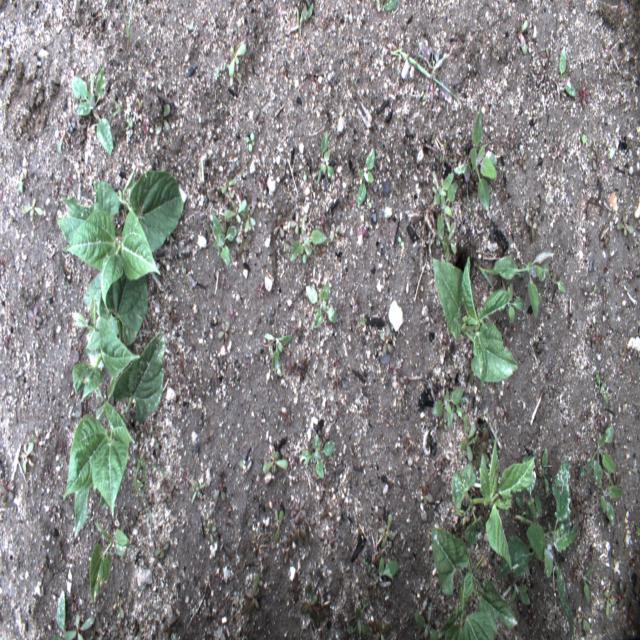crop: (61, 329, 166, 533), (55, 169, 184, 312), (431, 255, 518, 392), (450, 436, 535, 568), (72, 271, 150, 404), (428, 524, 518, 638), (90, 524, 130, 602)
weed: (498, 462, 576, 637), (454, 106, 498, 213), (388, 46, 462, 103), (71, 71, 115, 155), (132, 452, 177, 534), (494, 256, 544, 316), (578, 422, 616, 484), (512, 495, 544, 557), (432, 174, 460, 240), (305, 282, 339, 331), (299, 434, 335, 479), (289, 224, 328, 263), (222, 38, 253, 82), (210, 216, 235, 267), (263, 331, 293, 373), (357, 144, 375, 210), (316, 130, 336, 188), (430, 384, 466, 416), (556, 46, 578, 98), (172, 238, 191, 295), (373, 555, 401, 591), (117, 0, 136, 52), (346, 599, 371, 637), (599, 477, 619, 524), (293, 4, 315, 44), (414, 604, 439, 639), (460, 414, 478, 462), (244, 569, 260, 619), (301, 579, 319, 623), (262, 446, 289, 475), (579, 562, 596, 605), (54, 583, 68, 635), (66, 614, 96, 638), (506, 284, 524, 324), (510, 582, 534, 612), (474, 264, 498, 290), (442, 222, 460, 256), (540, 448, 552, 499), (413, 479, 434, 508), (547, 265, 567, 295), (273, 507, 288, 546), (221, 198, 246, 221), (592, 371, 609, 404), (151, 540, 171, 568), (24, 195, 44, 222), (616, 213, 636, 240), (291, 518, 307, 550), (320, 592, 334, 628), (515, 17, 529, 53), (219, 172, 238, 198), (155, 105, 172, 134), (21, 438, 34, 475), (212, 476, 228, 506), (202, 518, 218, 548), (234, 233, 253, 258), (476, 437, 490, 469), (381, 514, 393, 551), (602, 586, 615, 618), (190, 479, 208, 502), (113, 588, 125, 622), (374, 618, 393, 639), (374, 1, 400, 16), (524, 215, 539, 241), (53, 128, 67, 154), (577, 610, 591, 636), (283, 531, 294, 563), (15, 167, 28, 193), (242, 207, 255, 233), (437, 139, 449, 167), (586, 149, 602, 169), (111, 96, 124, 120), (288, 210, 300, 236), (542, 44, 554, 70), (591, 325, 603, 351), (216, 322, 232, 341), (0, 485, 14, 505), (291, 571, 300, 602), (467, 356, 475, 390), (238, 458, 252, 477), (244, 128, 255, 152), (542, 362, 555, 382), (26, 306, 40, 324), (328, 224, 342, 242), (273, 220, 285, 240), (296, 501, 307, 521), (304, 514, 314, 534), (599, 233, 610, 250), (289, 493, 296, 519), (608, 144, 618, 160), (357, 315, 367, 329), (591, 283, 599, 298), (579, 133, 587, 145)
